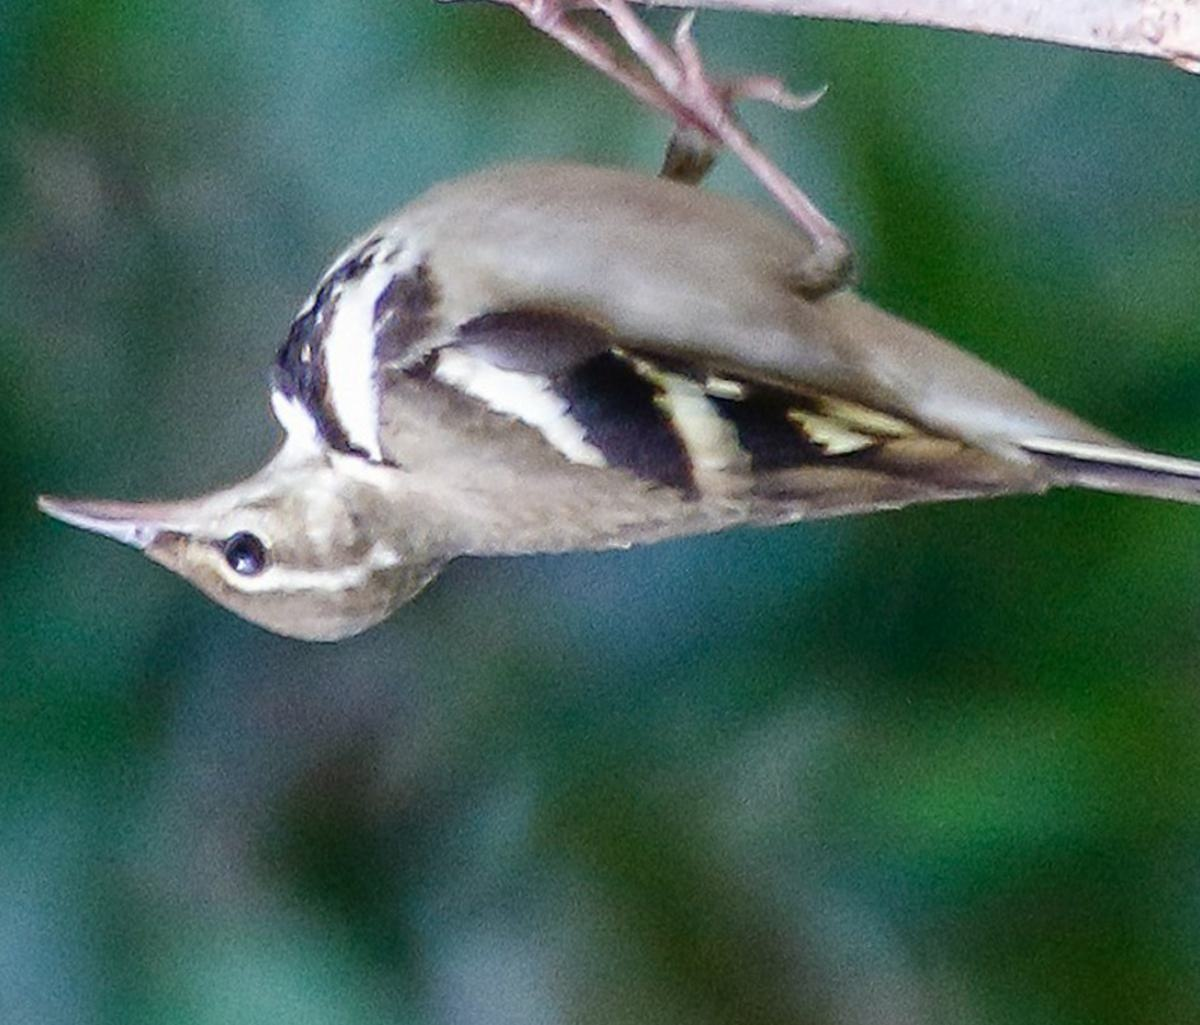wagtail: (46, 21, 1165, 664)
